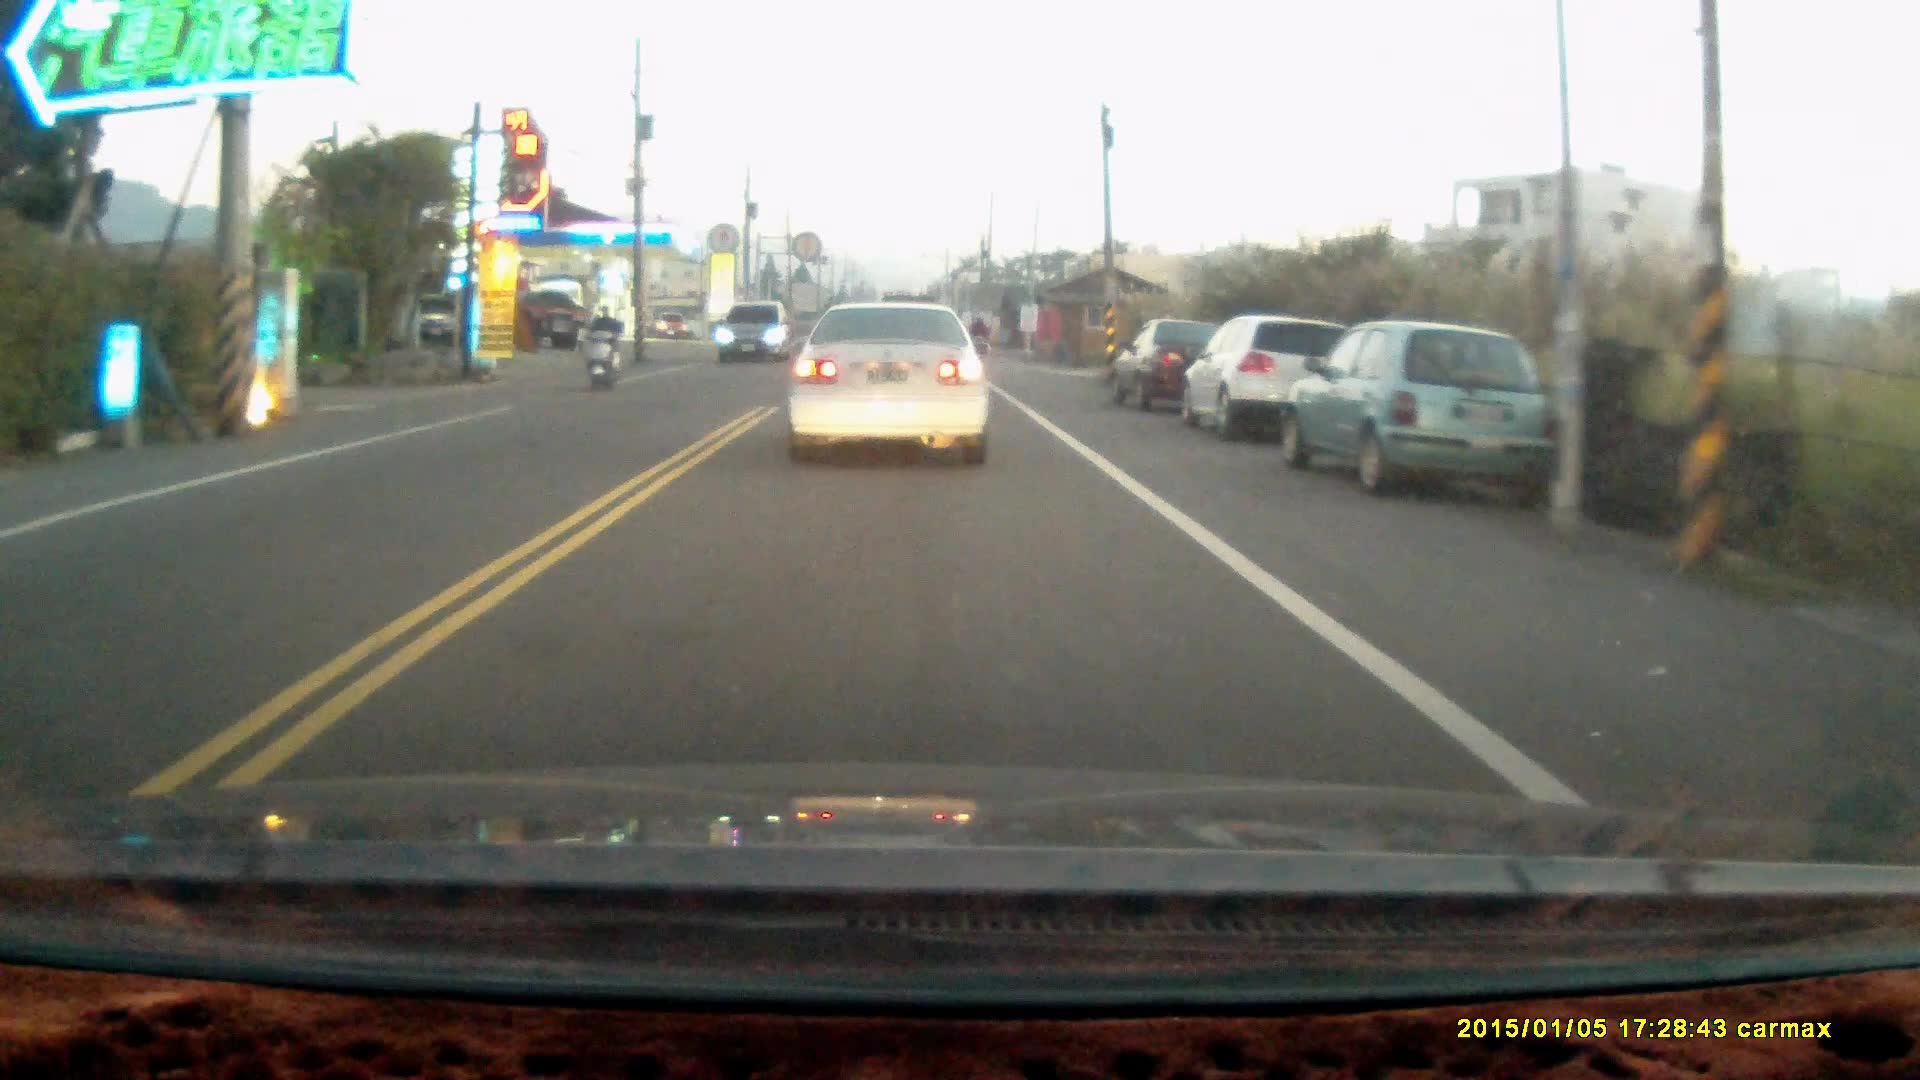rider: (582, 304, 622, 388)
vehicle: (1277, 320, 1561, 496), (788, 295, 997, 467), (1185, 313, 1355, 442), (1116, 315, 1222, 408), (719, 306, 795, 365)
